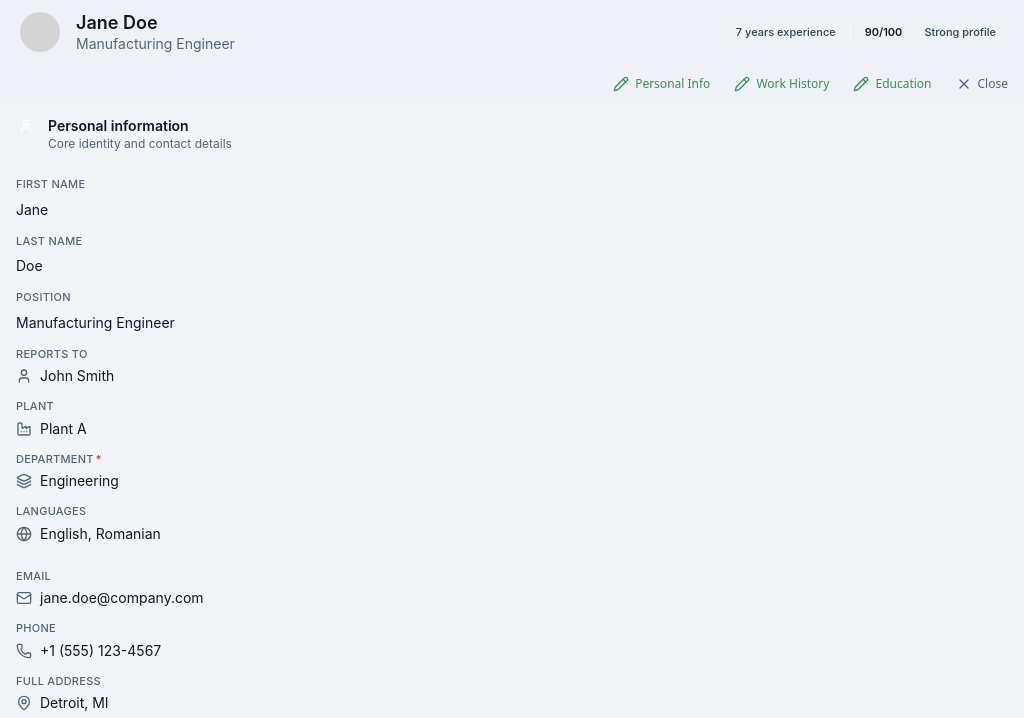
Test: UserProfilePage — integration › edit mode buttons › shows error count when field errors exist during save
Click the button "Personal Info": (662, 84) [605, 68, 718, 100]
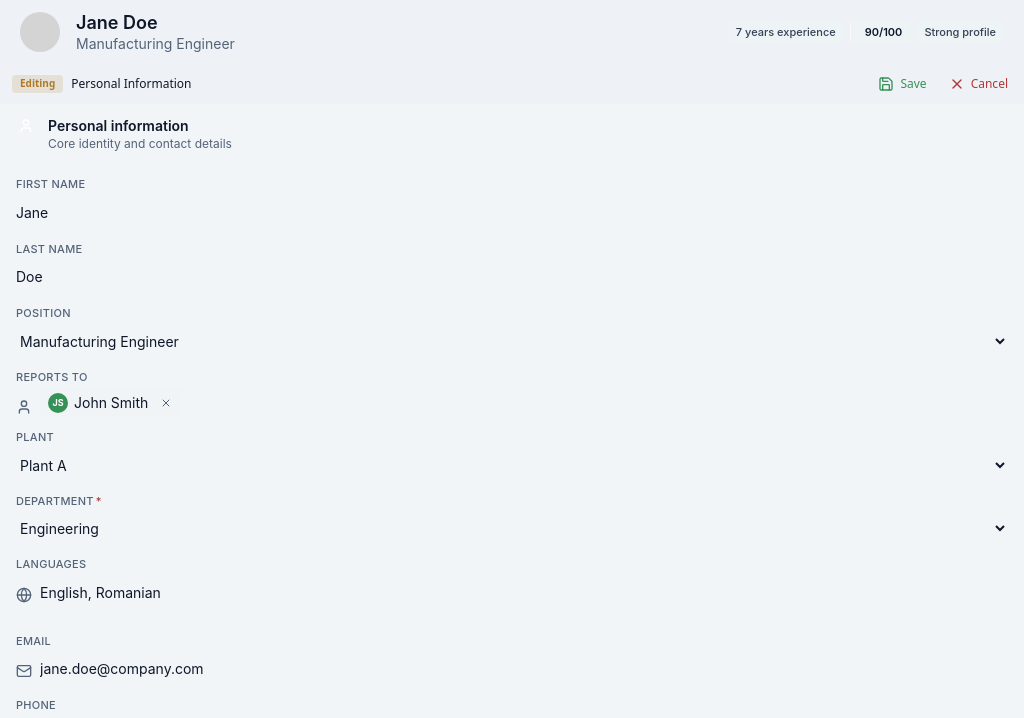
Click the button "Save": (903, 84) [870, 68, 935, 100]
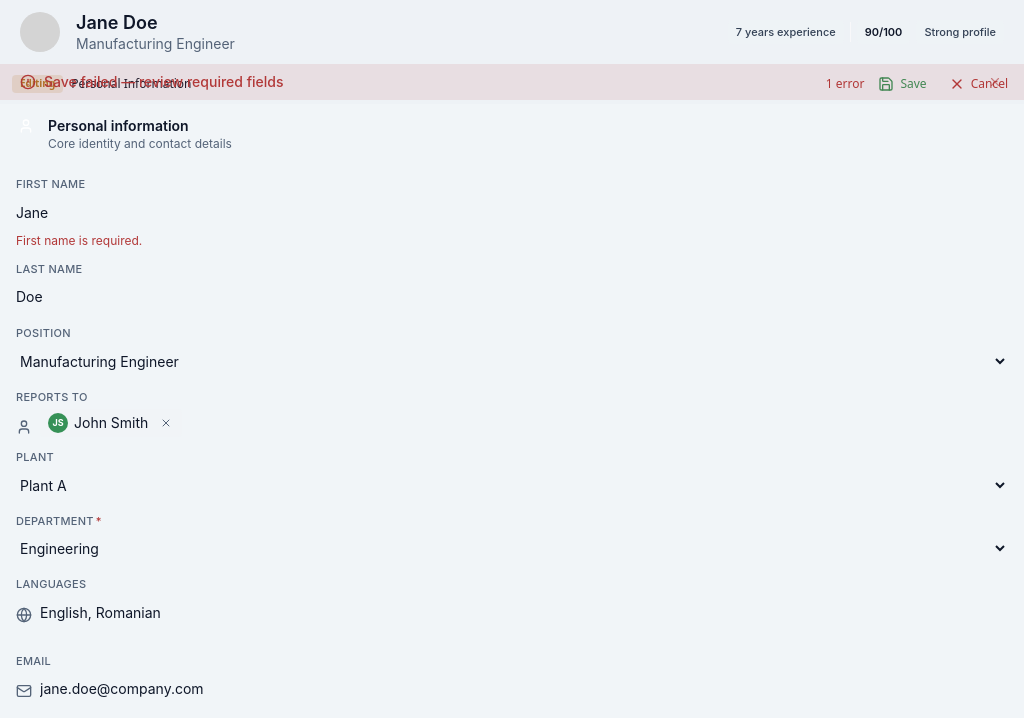
Now the text "1 error" is shown, box [826, 76, 864, 92]
